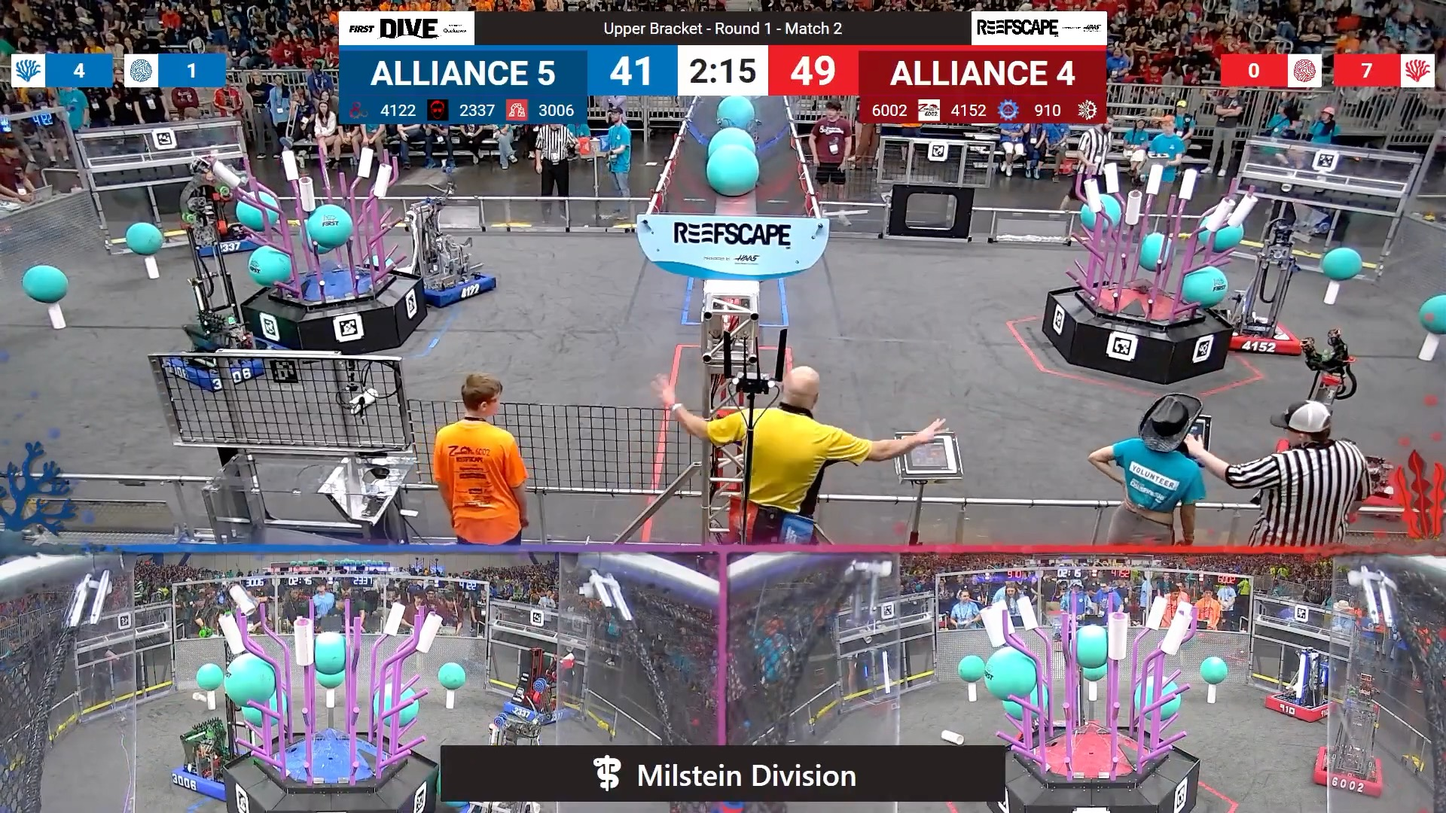bumpers: (162, 345, 277, 391), (395, 260, 504, 308), (1215, 309, 1310, 361), (1307, 741, 1390, 799), (166, 750, 246, 799), (1260, 691, 1341, 726), (498, 694, 575, 728), (185, 234, 266, 258)
